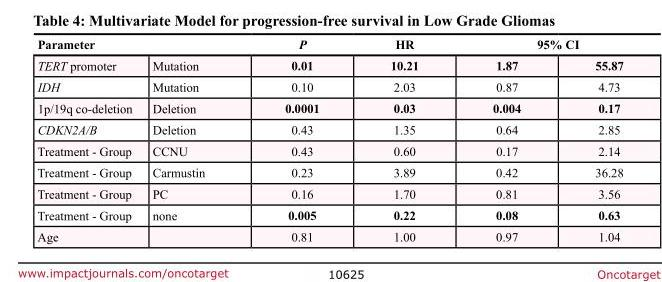table: (36, 36, 622, 243)
table column: (244, 36, 354, 243), (36, 36, 141, 243), (141, 36, 244, 243), (455, 36, 557, 243), (354, 36, 455, 243), (557, 36, 622, 243)
table column header: (36, 36, 622, 75)
table row: (36, 75, 622, 97), (36, 118, 622, 140), (36, 182, 622, 204), (36, 54, 622, 75), (36, 97, 622, 118), (36, 140, 622, 161), (36, 161, 622, 182), (36, 204, 622, 225), (36, 36, 622, 54), (36, 225, 622, 243)
table spanning cell: (244, 36, 354, 75), (36, 36, 141, 75), (141, 36, 244, 75), (354, 36, 455, 75), (455, 36, 622, 54)
